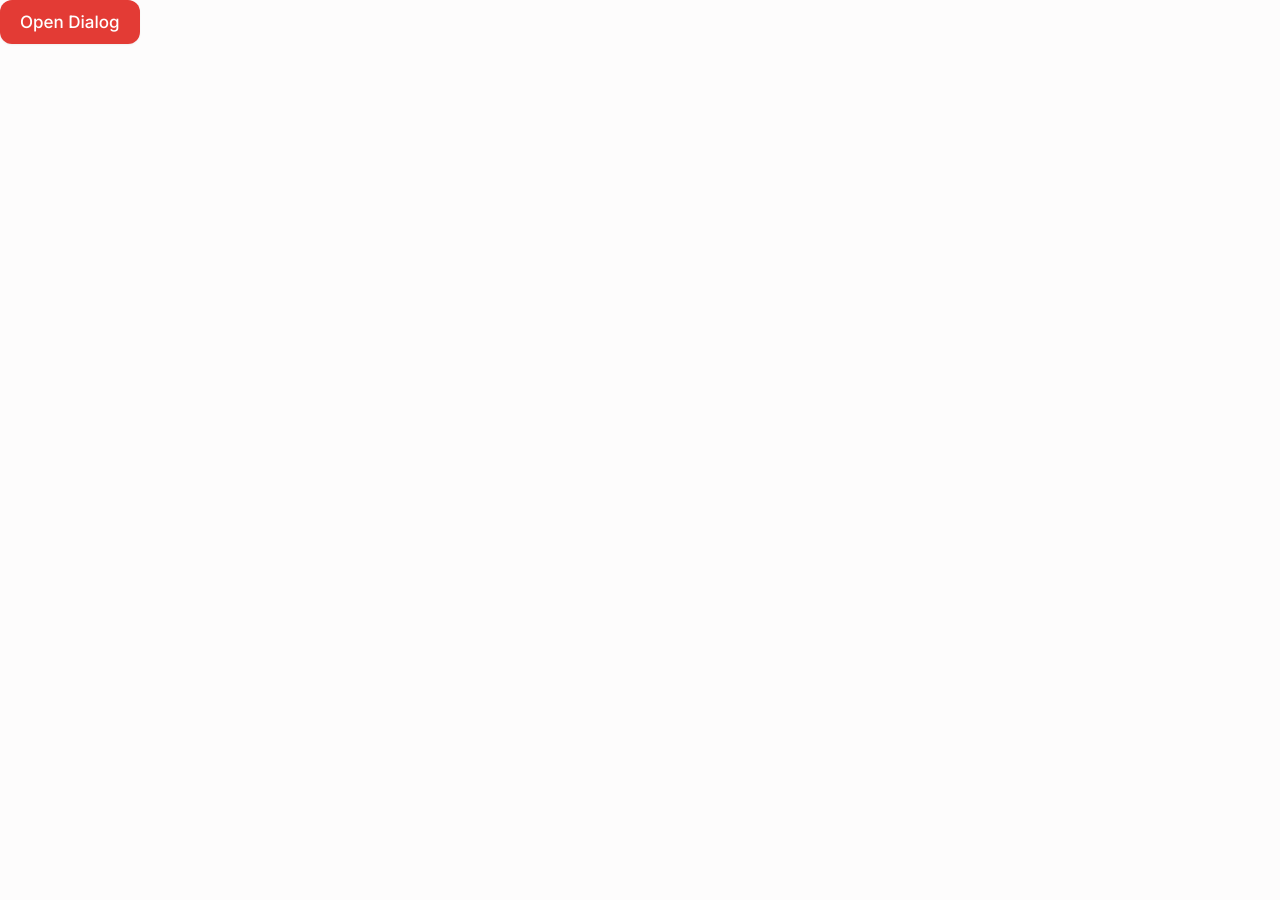
Test case: Dialog Components › Dialog › opens dialog when trigger is clicked
Click the button "Open Dialog".
click(70, 22)  # box [0,0,140,44]
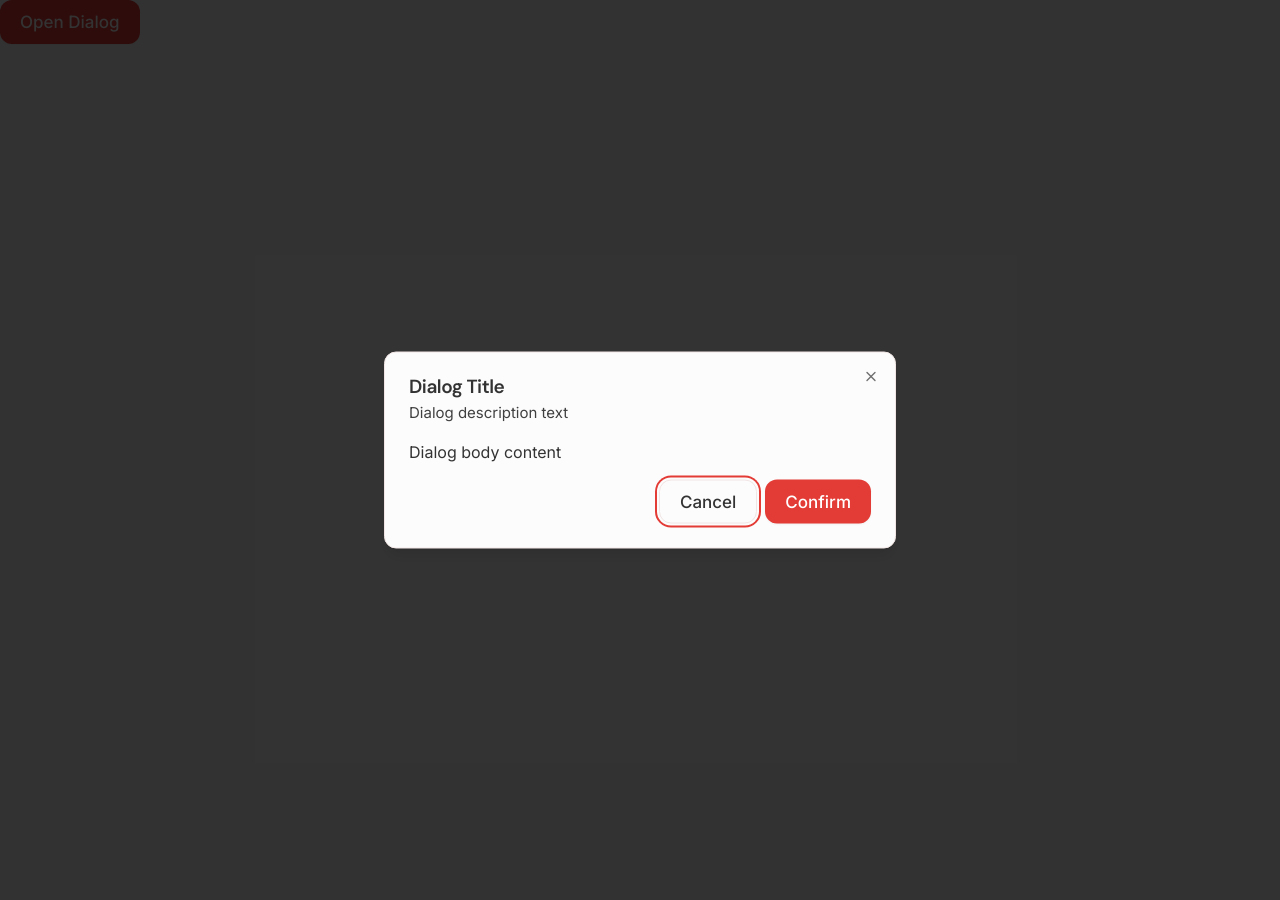
Now the dialog is shown, box [384,352,896,548]
